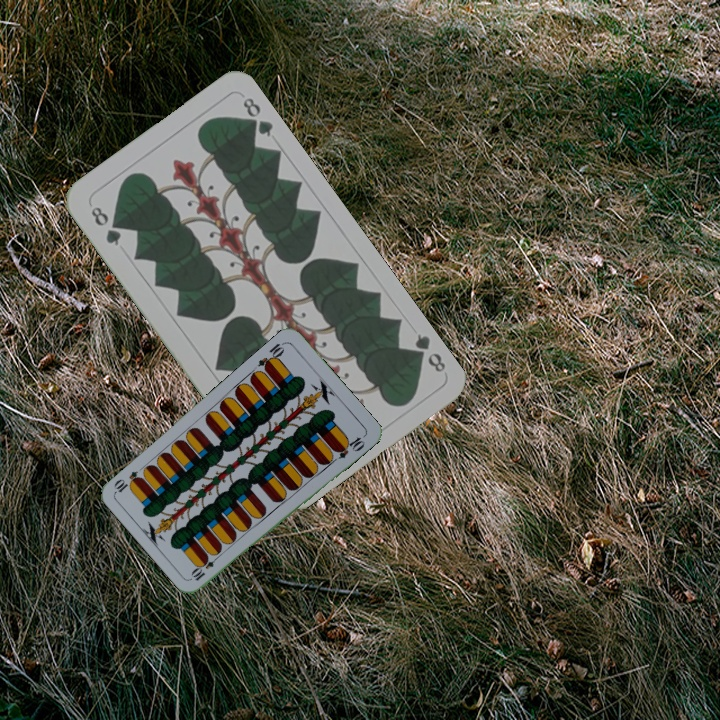E10: (254, 338, 288, 373), (188, 550, 222, 584)
G8: (406, 329, 449, 375), (86, 202, 124, 249)
